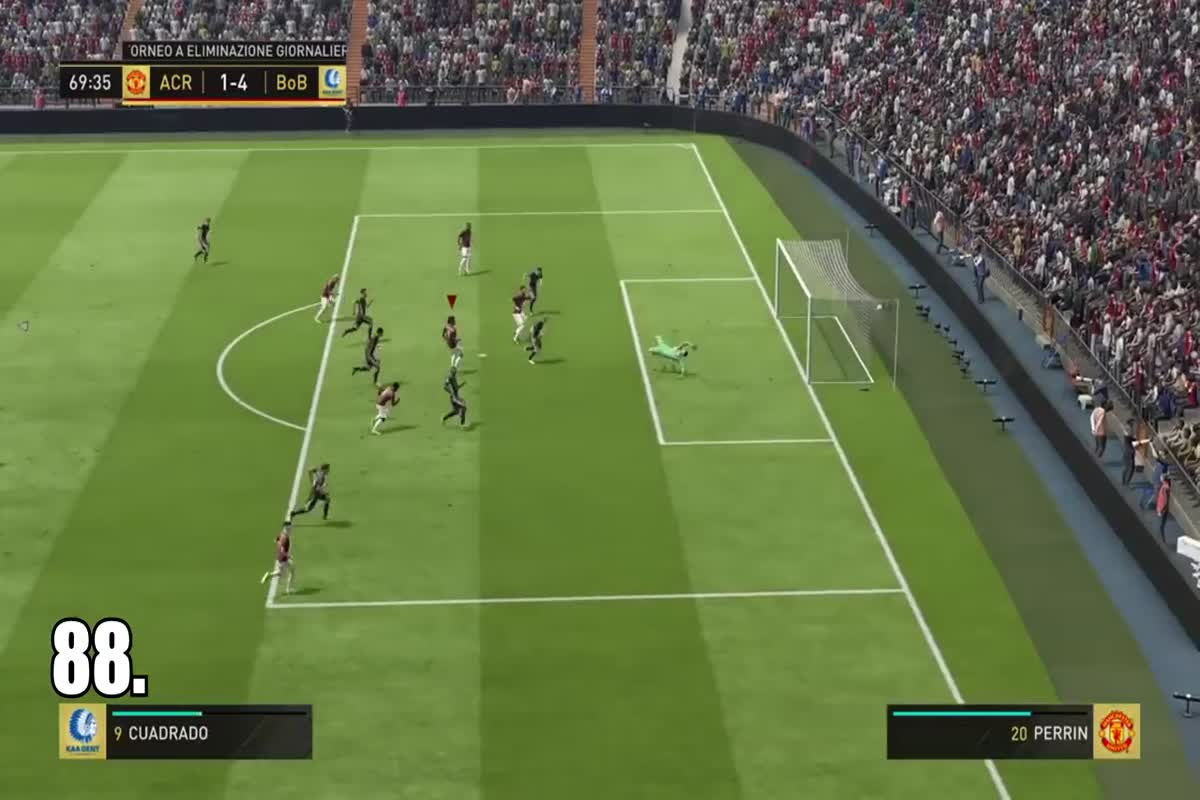ball: (868, 299, 888, 314)
